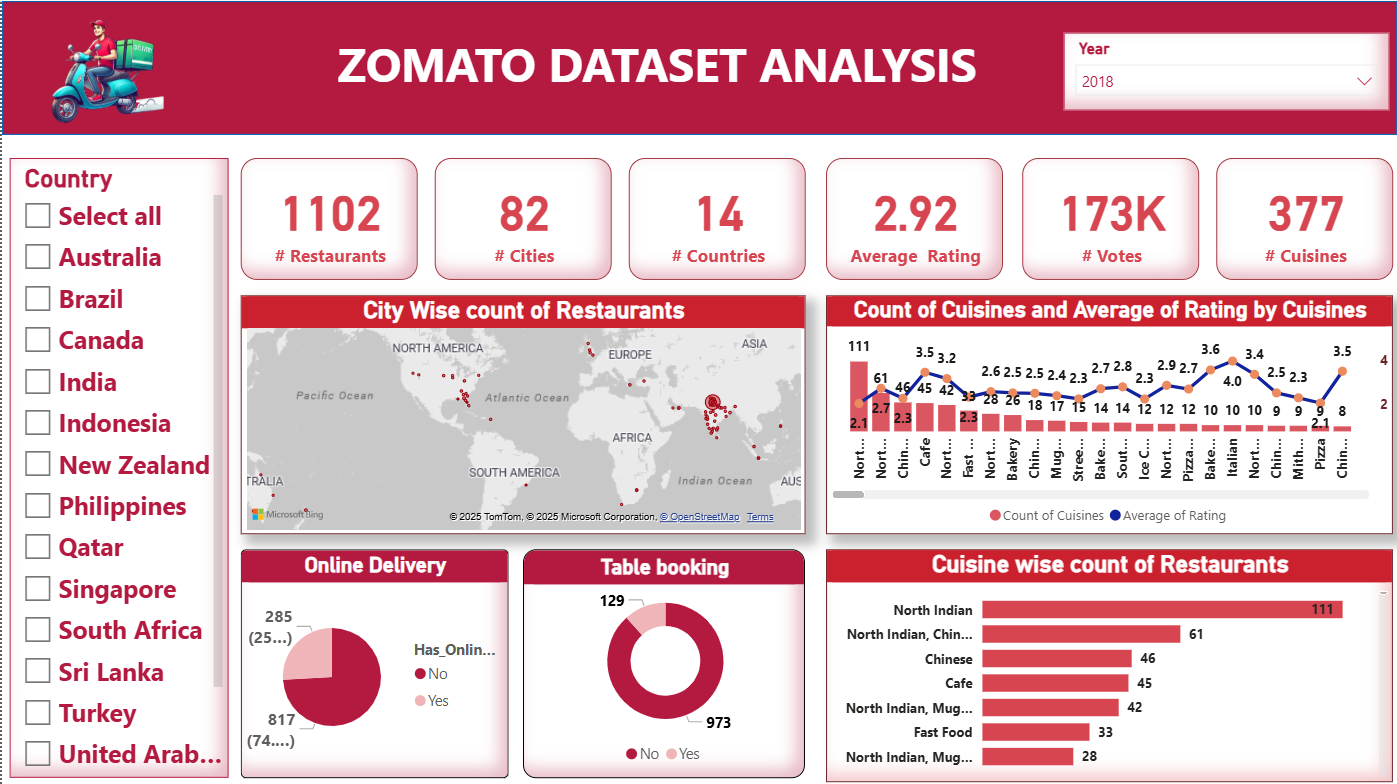

What the dashboard file says about the page in this screenshot:
{"tool":"powerbi","page":{"name":"Dashboard","canvas":[1280,720],"ordinal":0},"visuals":[{"type":"shape","box":[0,0,1280.4,122.9],"z":0},{"type":"image","box":[7,0,169,123],"z":1000},{"type":"textbox","box":[220,24.3,762.1,76],"z":2000},{"type":"card","fields":{"Values":["Count(restaurants.RestaurantID)"]},"box":[219.4,143.7,162.6,111.6],"z":3000},{"type":"card","fields":{"Values":["Count(restaurants.City)"]},"box":[397.2,143.7,162.6,111.6],"z":4000},{"type":"card","fields":{"Values":["Count(restaurants.CountryCode)"]},"box":[574.9,143.7,162.6,111.6],"z":5000},{"type":"card","fields":{"Values":["Avg(restaurants.Rating)"]},"box":[756.5,143.7,162.6,111.6],"z":6000},{"type":"card","fields":{"Values":["Sum(restaurants.Votes)"]},"box":[936.2,143.7,162.6,111.6],"z":7000},{"type":"card","fields":{"Values":["Count(restaurants.Cuisines)"]},"box":[1114,143.7,162.6,111.6],"z":8000},{"type":"slicer","fields":{"Values":["countries.country name"]},"box":[7,144,201,569.1],"z":9000},{"type":"lineStackedColumnComboChart","fields":{"Y":["CountNonNull(restaurants.Cuisines)"],"Category":["restaurants.Cuisines"],"Y2":["Avg(restaurants.Rating)"]},"box":[756.5,270.5,520.1,219.4],"z":10000},{"type":"map","title":"City Wise count of Restaurants","fields":{"Size":["CountNonNull(restaurants.RestaurantID)"],"Category":["restaurants.City"]},"box":[219.4,270.5,518.2,219.4],"z":11000},{"type":"clusteredBarChart","title":"Cuisine wise count of Restaurants","fields":{"Category":["restaurants.Cuisines"],"Y":["CountNonNull(restaurants.RestaurantID)"]},"box":[756.5,503.1,520.1,213.7],"z":12000},{"type":"pieChart","title":"Online Delivery","fields":{"Category":["restaurants.Has_Online_delivery"],"Y":["CountNonNull(restaurants.RestaurantID)"]},"box":[219.4,503.1,245.9,209.9],"z":13000},{"type":"donutChart","title":"Table booking ","fields":{"Category":["restaurants.Has_Table_booking"],"Y":["CountNonNull(restaurants.RestaurantID)"]},"box":[478.5,503.1,259.1,209.9],"z":14000},{"type":"slicer","fields":{"Values":["restaurants.Datekey_Opening.Variation.Date Hierarchy.Year"]},"box":[974,29.1,299.3,71.2],"z":15000}]}

Visuals, with their boxes in screenshot pixels (x1, y1, x2, y2), scaled from the page's 1280x720 canvas onto the 1397x784 screenshot:
shape: {"x1": 0, "y1": 0, "x2": 1396, "y2": 134}
image: {"x1": 8, "y1": 0, "x2": 192, "y2": 134}
textbox: {"x1": 240, "y1": 26, "x2": 1072, "y2": 109}
card - Count(restaurants.RestaurantID): {"x1": 239, "y1": 156, "x2": 417, "y2": 278}
card - Count(restaurants.City): {"x1": 434, "y1": 156, "x2": 611, "y2": 278}
card - Count(restaurants.CountryCode): {"x1": 627, "y1": 156, "x2": 805, "y2": 278}
card - Avg(restaurants.Rating): {"x1": 826, "y1": 156, "x2": 1003, "y2": 278}
card - Sum(restaurants.Votes): {"x1": 1022, "y1": 156, "x2": 1199, "y2": 278}
card - Count(restaurants.Cuisines): {"x1": 1216, "y1": 156, "x2": 1393, "y2": 278}
slicer - countries.country name: {"x1": 8, "y1": 157, "x2": 227, "y2": 776}
lineStackedColumnComboChart - CountNonNull(restaurants.Cuisines) x restaurants.Cuisines: {"x1": 826, "y1": 295, "x2": 1393, "y2": 533}
"City Wise count of Restaurants" map: {"x1": 239, "y1": 295, "x2": 805, "y2": 533}
"Cuisine wise count of Restaurants" clusteredBarChart: {"x1": 826, "y1": 548, "x2": 1393, "y2": 781}
"Online Delivery" pieChart: {"x1": 239, "y1": 548, "x2": 508, "y2": 776}
"Table booking " donutChart: {"x1": 522, "y1": 548, "x2": 805, "y2": 776}
slicer - restaurants.Datekey_Opening.Variation.Date Hierarchy.Year: {"x1": 1063, "y1": 32, "x2": 1390, "y2": 109}
